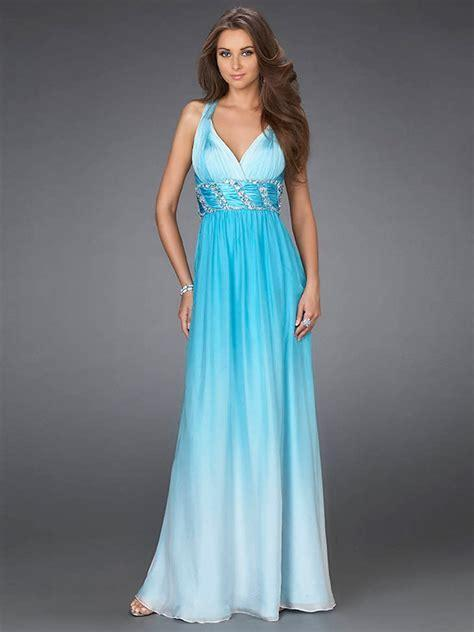dress: (135, 99, 337, 622)
